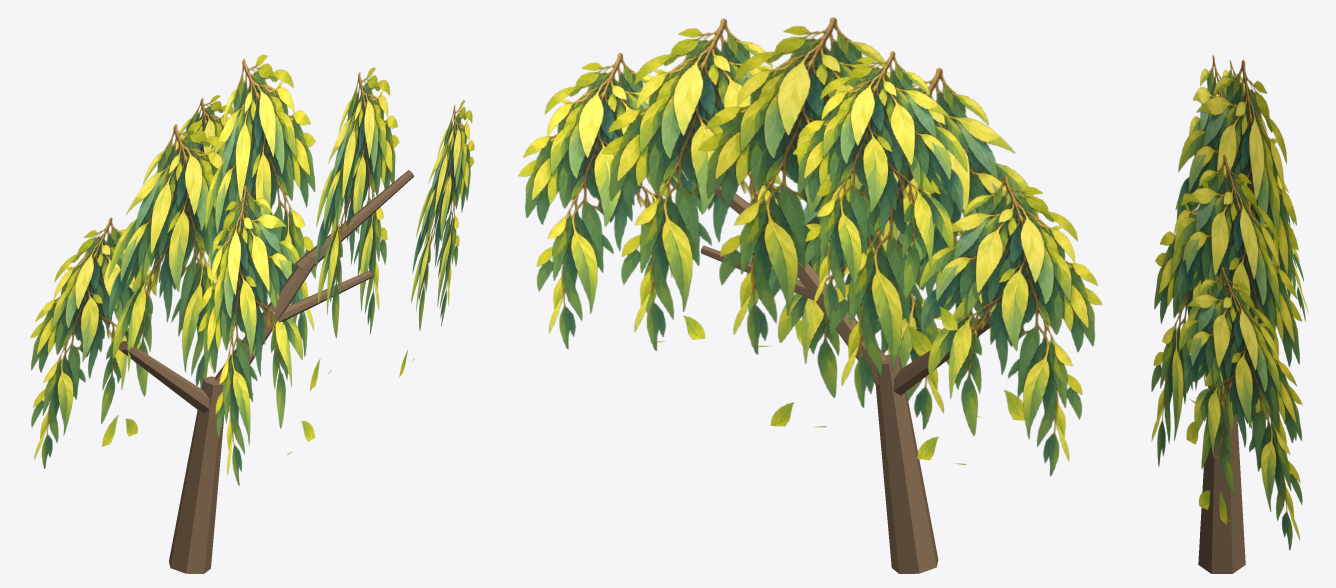
Rendered from TREE_COASTAL_WIND_001_SHAPE_SAFE_LOD_GAMEPLAY.glb.
3 views of the same model, side by side, from view 1: azimuth 30°, elevation 25°; view 2: azimuth 150°, elevation 25°; view 3: azimuth 270°, elevation 25° (orthographic). The views are drawn at different scales.
Parts seen in each view (by area): view 1: GG_NATIVE_SHAPE_SAFE_CARD_01, GG_NATIVE_SHAPE_SAFE_CARD_05, GG_NATIVE_SHAPE_SAFE_CARD_02, GG_NATIVE_SHAPE_SAFE_CARD_00, GG_NATIVE_SHAPE_SAFE_CARD_03, GG_NATIVE_SHAPE_SAFE_CARD_04, GG_TREE_COASTAL_WIND_001_LOCKED_CARCASS_00, GG_NATIVE_SHAPE_SAFE_CARD_06, GG_TREE_COASTAL_WIND_001_LOCKED_CARCASS_03, GG_TREE_COASTAL_WIND_001_LOCKED_CARCASS_02, GG_TREE_COASTAL_WIND_001_LOCKED_CARCASS_01, GG_TREE_COASTAL_WIND_001_LOCKED_CARCASS_04; view 2: GG_NATIVE_SHAPE_SAFE_CARD_00, GG_NATIVE_SHAPE_SAFE_CARD_06, GG_NATIVE_SHAPE_SAFE_CARD_02, GG_NATIVE_SHAPE_SAFE_CARD_03, GG_NATIVE_SHAPE_SAFE_CARD_04, GG_NATIVE_SHAPE_SAFE_CARD_01, GG_TREE_COASTAL_WIND_001_LOCKED_CARCASS_00, GG_NATIVE_SHAPE_SAFE_CARD_05, GG_TREE_COASTAL_WIND_001_LOCKED_CARCASS_01, GG_TREE_COASTAL_WIND_001_LOCKED_CARCASS_03; view 3: GG_NATIVE_SHAPE_SAFE_CARD_04, GG_NATIVE_SHAPE_SAFE_CARD_03, GG_NATIVE_SHAPE_SAFE_CARD_02, GG_NATIVE_SHAPE_SAFE_CARD_05, GG_TREE_COASTAL_WIND_001_LOCKED_CARCASS_00, GG_NATIVE_SHAPE_SAFE_CARD_01, GG_NATIVE_SHAPE_SAFE_CARD_06.
Part boxes in pixels (x1,y1,x2,y2): GG_NATIVE_SHAPE_SAFE_CARD_01: (102, 121, 242, 446); GG_NATIVE_SHAPE_SAFE_CARD_05: (198, 185, 314, 485); GG_NATIVE_SHAPE_SAFE_CARD_02: (205, 54, 315, 414); GG_NATIVE_SHAPE_SAFE_CARD_00: (30, 217, 156, 468); GG_NATIVE_SHAPE_SAFE_CARD_03: (310, 67, 399, 390); GG_NATIVE_SHAPE_SAFE_CARD_04: (399, 100, 474, 376); GG_TREE_COASTAL_WIND_001_LOCKED_CARCASS_00: (169, 376, 224, 573); GG_NATIVE_SHAPE_SAFE_CARD_06: (150, 95, 233, 293); GG_TREE_COASTAL_WIND_001_LOCKED_CARCASS_03: (118, 341, 209, 413); GG_TREE_COASTAL_WIND_001_LOCKED_CARCASS_02: (294, 170, 413, 272); GG_TREE_COASTAL_WIND_001_LOCKED_CARCASS_01: (215, 255, 315, 403); GG_TREE_COASTAL_WIND_001_LOCKED_CARCASS_04: (278, 271, 372, 321); GG_NATIVE_SHAPE_SAFE_CARD_00: (917, 176, 1102, 475); GG_NATIVE_SHAPE_SAFE_CARD_06: (792, 51, 967, 330); GG_NATIVE_SHAPE_SAFE_CARD_02: (698, 17, 932, 355); GG_NATIVE_SHAPE_SAFE_CARD_03: (601, 18, 817, 350); GG_NATIVE_SHAPE_SAFE_CARD_04: (518, 53, 705, 348); GG_NATIVE_SHAPE_SAFE_CARD_01: (816, 68, 1038, 420); GG_TREE_COASTAL_WIND_001_LOCKED_CARCASS_00: (875, 354, 938, 573); GG_NATIVE_SHAPE_SAFE_CARD_05: (768, 194, 963, 429); GG_TREE_COASTAL_WIND_001_LOCKED_CARCASS_01: (797, 262, 885, 384); GG_TREE_COASTAL_WIND_001_LOCKED_CARCASS_03: (893, 311, 992, 395); GG_NATIVE_SHAPE_SAFE_CARD_04: (1179, 266, 1302, 550); GG_NATIVE_SHAPE_SAFE_CARD_03: (1174, 154, 1302, 476); GG_NATIVE_SHAPE_SAFE_CARD_02: (1164, 60, 1298, 438); GG_NATIVE_SHAPE_SAFE_CARD_05: (1151, 179, 1233, 524); GG_TREE_COASTAL_WIND_001_LOCKED_CARCASS_00: (1198, 386, 1245, 573); GG_NATIVE_SHAPE_SAFE_CARD_01: (1189, 55, 1226, 134); GG_NATIVE_SHAPE_SAFE_CARD_06: (1223, 60, 1308, 321).
Bounding box in the file's own units: 36.44 × 34.19 × 10.65.
2 materials, 1 textured.
